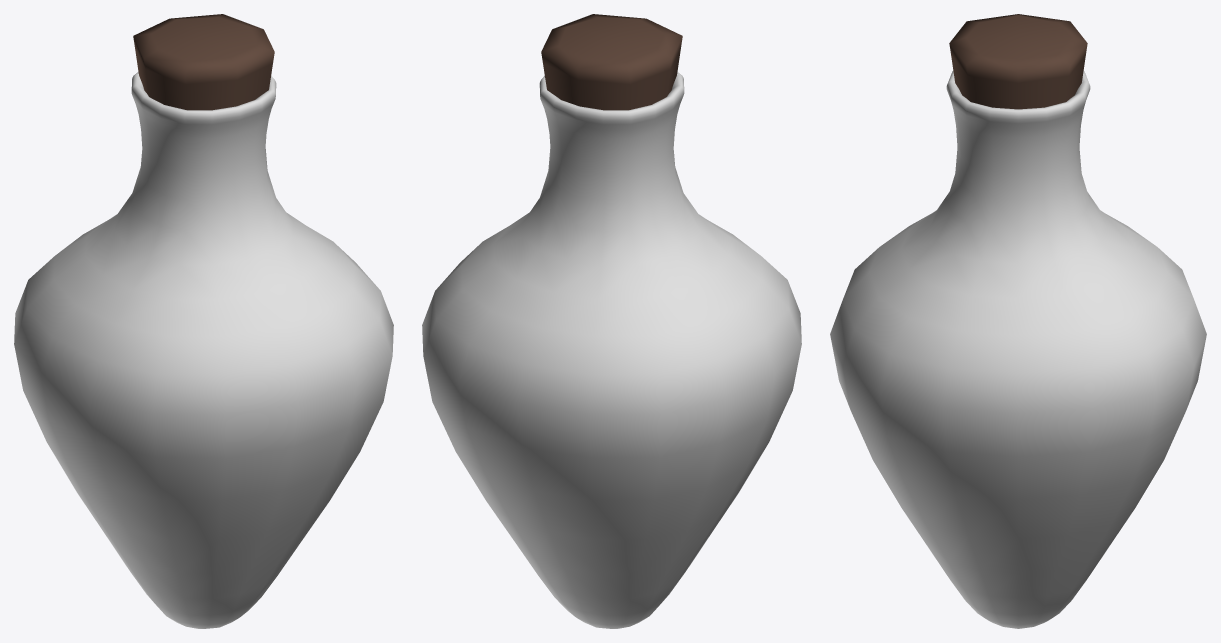
File: quaternius-rpg-items-pack-potion4-filled.glb
3 renders of one model, left to right at view 1: azimuth 30°, elevation 25°; view 2: azimuth 150°, elevation 25°; view 3: azimuth 270°, elevation 25°, orthographic.
Visible parts, largest first — view 1: Potion4_Filled; view 2: Potion4_Filled; view 3: Potion4_Filled.
Boxes of the visible parts, x1=… form: Potion4_Filled: x1=14, y1=14, x2=393, y2=628; Potion4_Filled: x1=422, y1=14, x2=801, y2=628; Potion4_Filled: x1=830, y1=14, x2=1206, y2=628.
Bounding box in the file's own units: 0.7187 × 1.24 × 0.7187.
